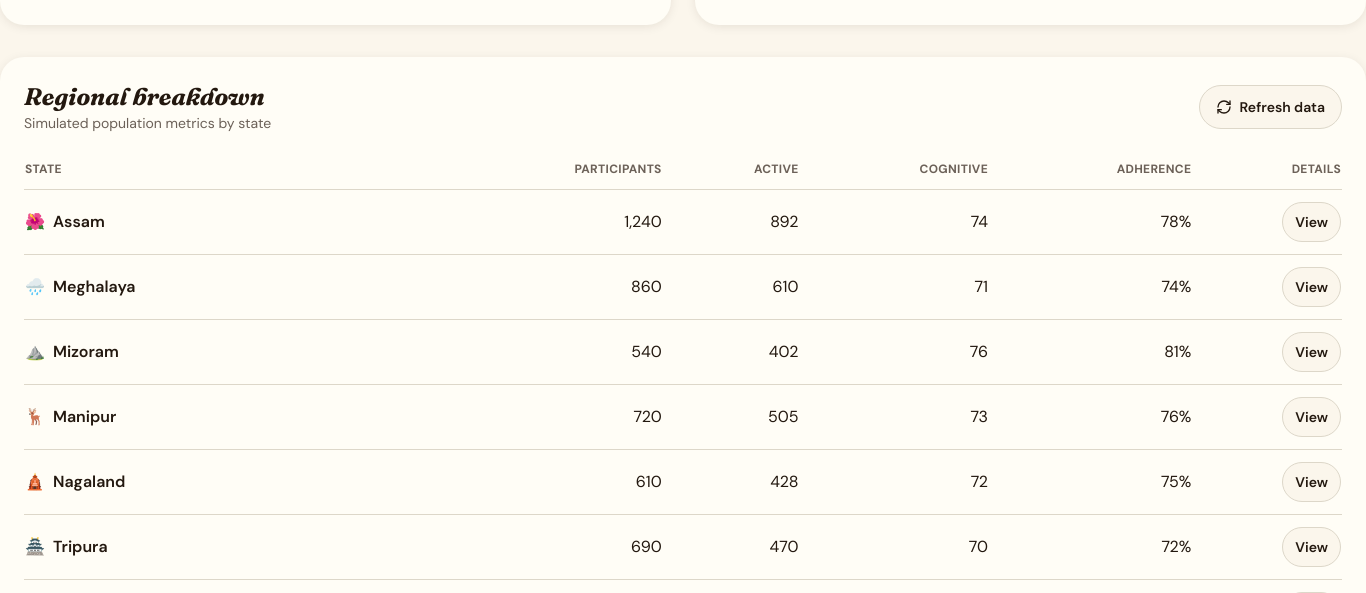
Test: HealthcareDashboardPage › expands a state row to show its detail
The image size is (1366, 593).
(page scrolled)
Click the button with test id "healthcare.state_toggle.1": (1312, 222) left=1282, top=202, right=1341, bottom=242
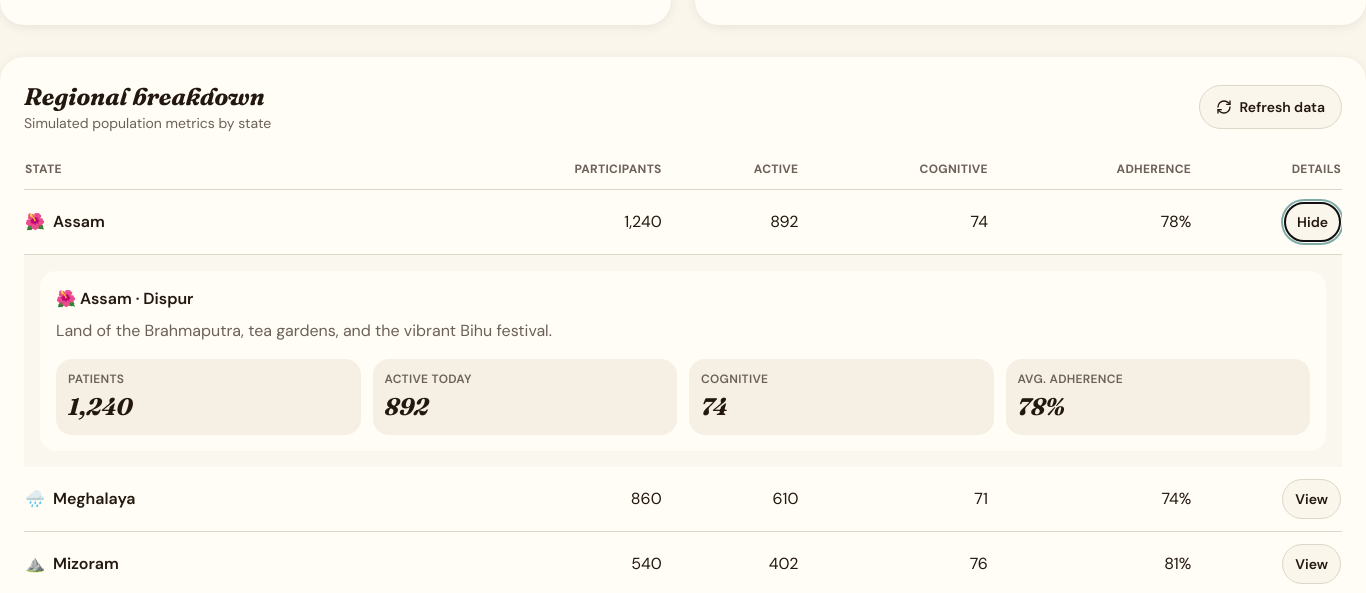
Expected: the row with test id "healthcare.state_detail.1" is shown, left=24, top=254, right=1342, bottom=467
